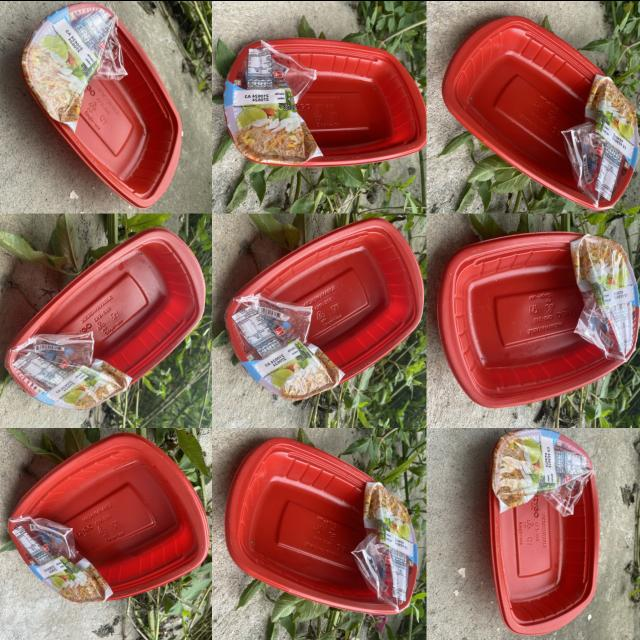plastik: (442, 16, 638, 209), (5, 227, 205, 409), (226, 218, 424, 400), (439, 232, 640, 406), (9, 432, 209, 601), (226, 437, 417, 613), (22, 2, 181, 207), (224, 37, 426, 166), (491, 428, 600, 634)
